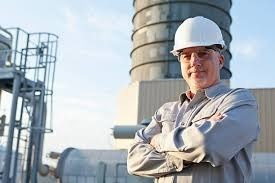helmet: (168, 14, 228, 59)
person: (125, 15, 261, 182)
